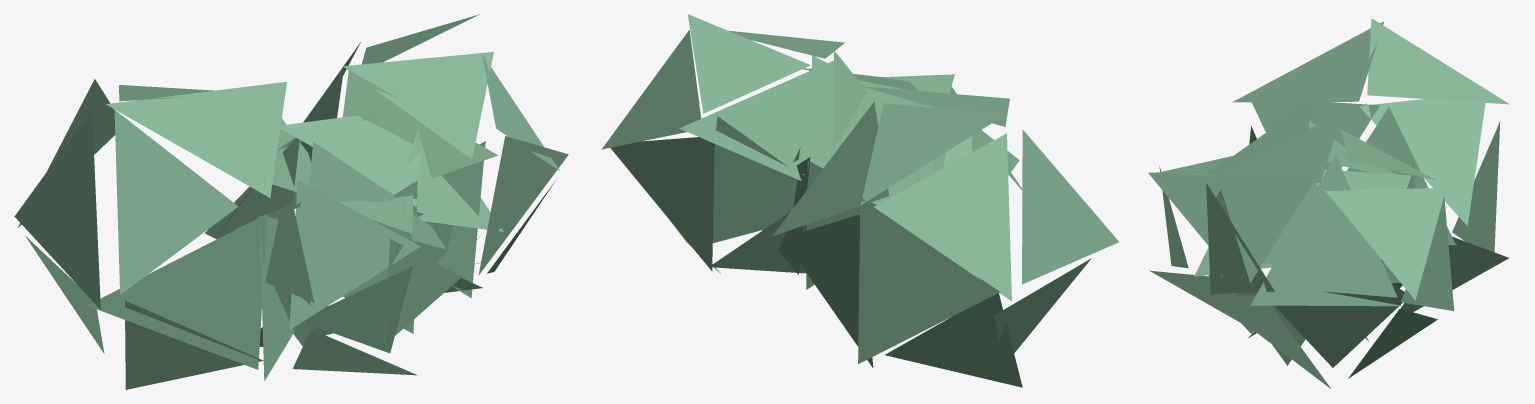
File: bush_0.glb
3 renders of one model, left to right at view 1: azimuth 30°, elevation 25°; view 2: azimuth 150°, elevation 25°; view 3: azimuth 270°, elevation 25°, orthographic. The views are drawn at different scales.
Visible parts, largest first — view 1: bush_0; view 2: bush_0; view 3: bush_0.
Part boxes in pixels (<box>): bush_0: <box>14,14,568,389</box>; bush_0: <box>601,14,1118,387</box>; bush_0: <box>1148,18,1509,389</box>.
Size of the model in its own units: 0.9836 by 0.6 by 0.7426.
